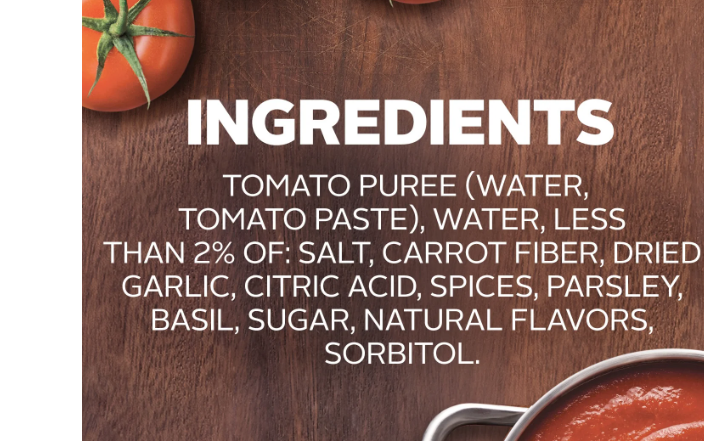l: (101, 89, 702, 370)
